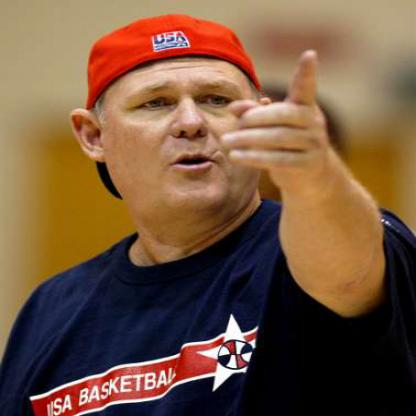face: (99, 16, 264, 214)
